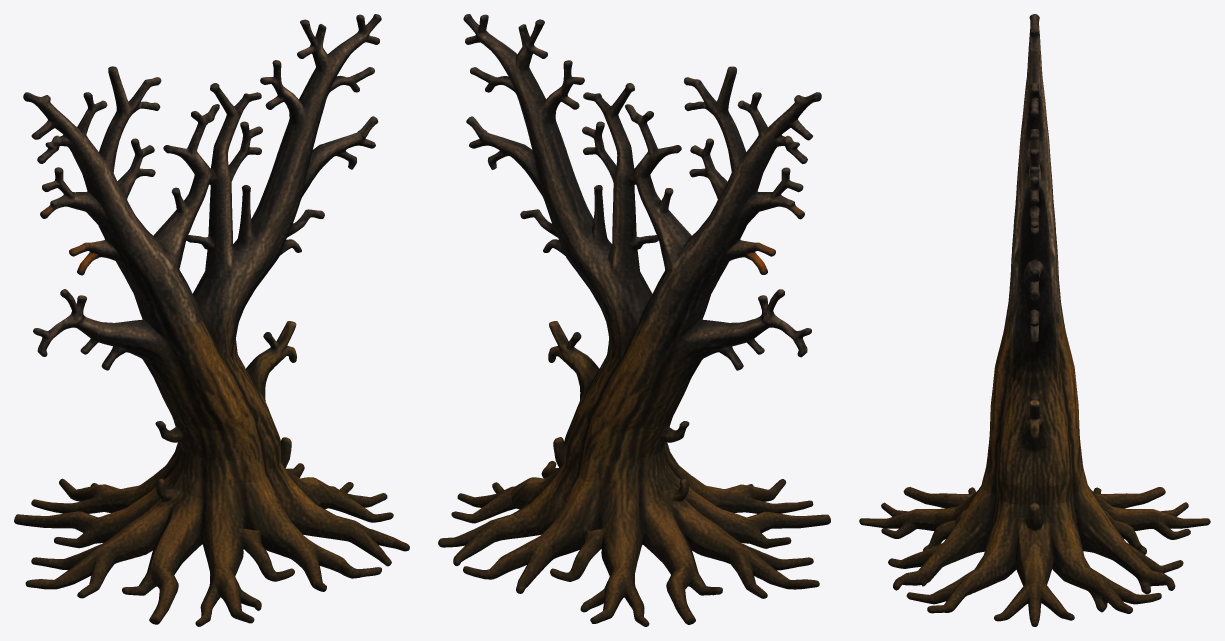
File: TRE2A0.obj
3 renders of one model, left to right at view 1: azimuth 30°, elevation 25°; view 2: azimuth 150°, elevation 25°; view 3: azimuth 270°, elevation 25°, orthographic. The views are drawn at different scales.
Visible parts, largest first — view 1: geometry_0; view 2: geometry_0; view 3: geometry_0.
Part boxes in pixels (x1=…): geometry_0: x1=14, y1=14, x2=409, y2=626; geometry_0: x1=438, y1=14, x2=830, y2=626; geometry_0: x1=859, y1=14, x2=1210, y2=626.
Size of the model in its own units: 0.7504 by 1 by 0.6861.
Materials: 1 (1 with a texture image).
